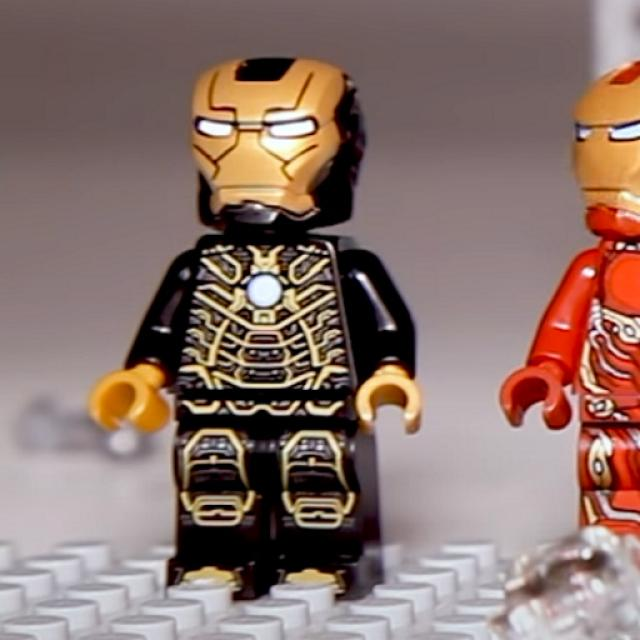Lego-Minifigures: (67, 32, 430, 610), (486, 31, 640, 566)
